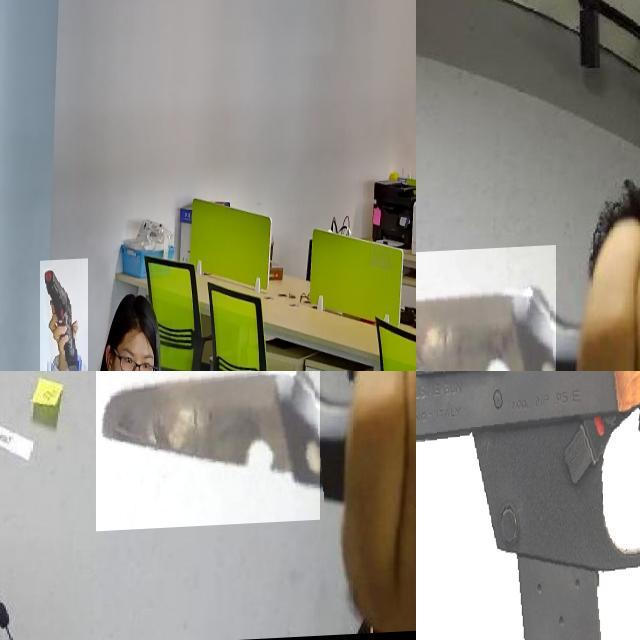-: (96, 371, 320, 533), (416, 250, 556, 371)
gun-knife-thesis - v11 Yolov5 augmented: (416, 371, 640, 640), (40, 260, 87, 371)
